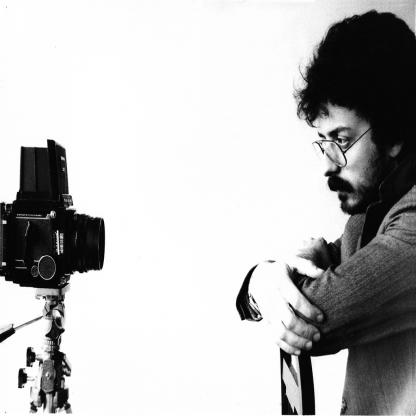Camera: (1, 140, 108, 289)
